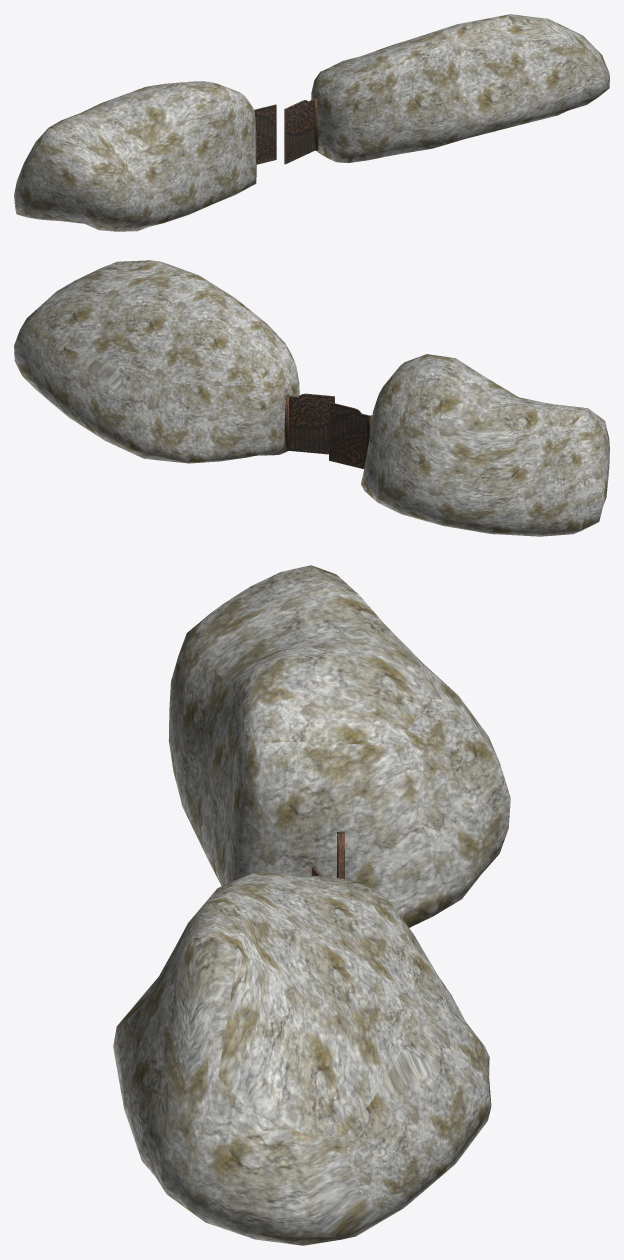
The model's file is CercaCerrar.fbx.
3 views of the same model, one above another, from view 1: azimuth 30°, elevation 25°; view 2: azimuth 150°, elevation 25°; view 3: azimuth 270°, elevation 25° (orthographic). The views are drawn at different scales.
Visible parts, largest first — view 1: Cube.019, startdoor, startdoor.001; view 2: Cube.019, startdoor, startdoor.001; view 3: Cube.019.
Boxes of the visible parts, box(x1,y1,x2,y2) form: Cube.019: box(14, 14, 609, 231); startdoor: box(284, 98, 314, 164); startdoor.001: box(254, 104, 276, 164); Cube.019: box(14, 260, 609, 536); startdoor: box(288, 393, 334, 454); startdoor.001: box(329, 402, 369, 468); Cube.019: box(113, 565, 510, 1245).
Bounding box in the file's own units: 5406 × 1135 × 1637.
Materials: 2 (2 with a texture image).
